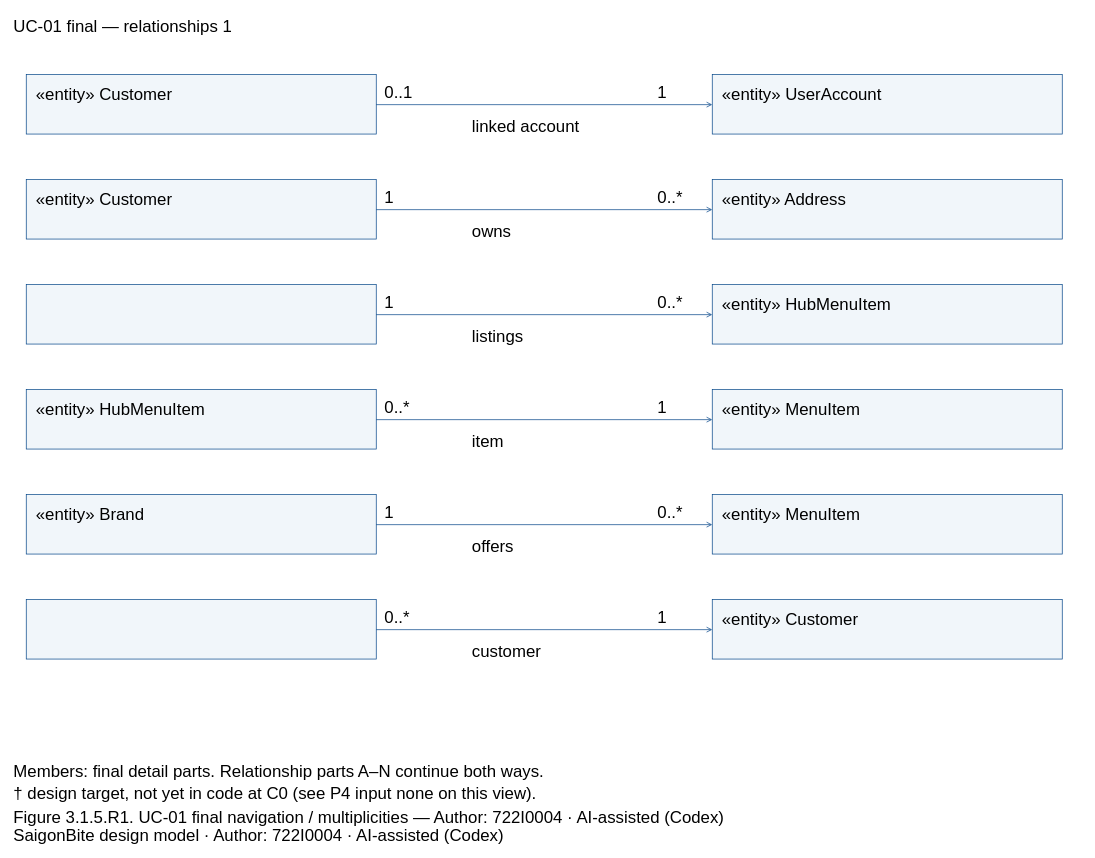
The diagram is 1095 pixels wide and 858 high, and some of its shapes have lost their labels. The shapes that lost their labels are listed below. From the top down, each one's box as (x1, y1, x2, y2) in pixels, then its label:
(26, 284, 376, 344): «entity» Hub
(26, 599, 376, 659): «entity» Order
